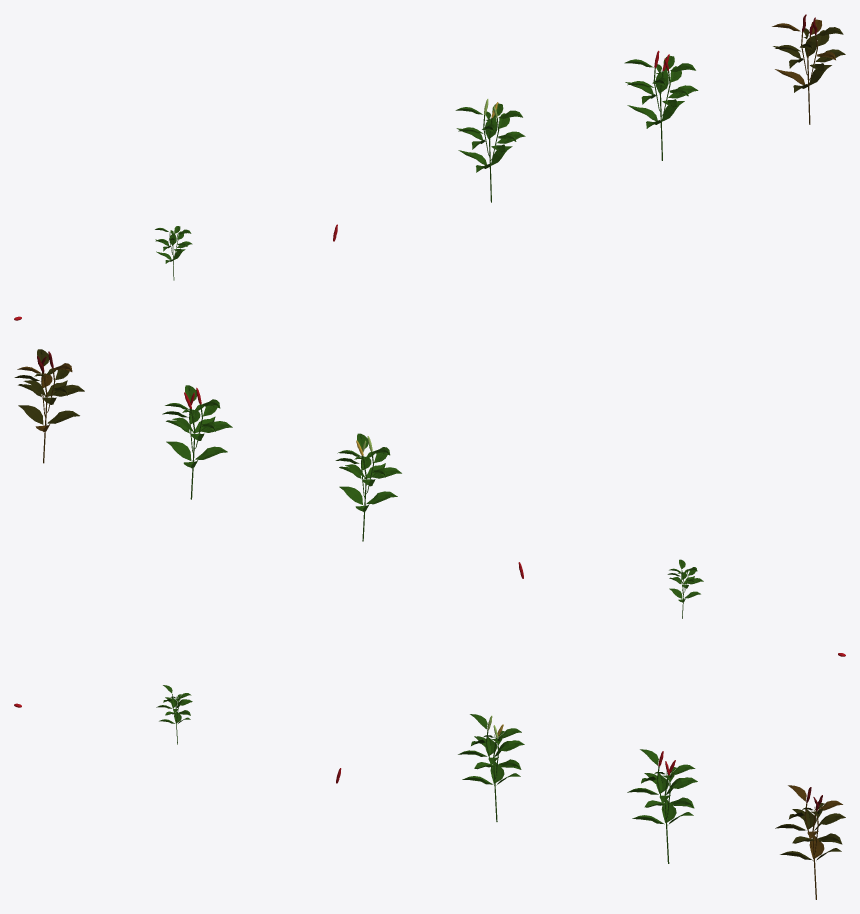
File: Pimenta.fbx
The picture shows the model from 3 angles, top to bottom: view 1: azimuth 30°, elevation 25°; view 2: azimuth 150°, elevation 25°; view 3: azimuth 330°, elevation 25°; orthographic projection.
Parts seen in each view (by area): view 1: PimentaVermelha, PimentaVermelhaMorrendo, PimentaVerde, FolhaPimenta; view 2: PimentaVermelhaMorrendo, PimentaVermelha, PimentaVerde, FolhaPimenta; view 3: PimentaVermelha, PimentaVermelhaMorrendo, PimentaVerde, FolhaPimenta.
Part boxes in pixels (box(x1,y1,x2,y2)): PimentaVermelha: box(624, 50, 698, 160); PimentaVermelhaMorrendo: box(772, 14, 845, 124); PimentaVerde: box(455, 99, 525, 202); FolhaPimenta: box(155, 226, 192, 280); PimentaVermelhaMorrendo: box(14, 349, 84, 463); PimentaVermelha: box(162, 385, 232, 499); PimentaVerde: box(335, 433, 401, 541); FolhaPimenta: box(667, 559, 703, 618); PimentaVermelha: box(627, 749, 697, 863); PimentaVermelhaMorrendo: box(775, 785, 845, 899); PimentaVerde: box(458, 714, 524, 821); FolhaPimenta: box(156, 685, 192, 744).
Bounding box in the file's own units: 208 × 26.96 × 15.52.
